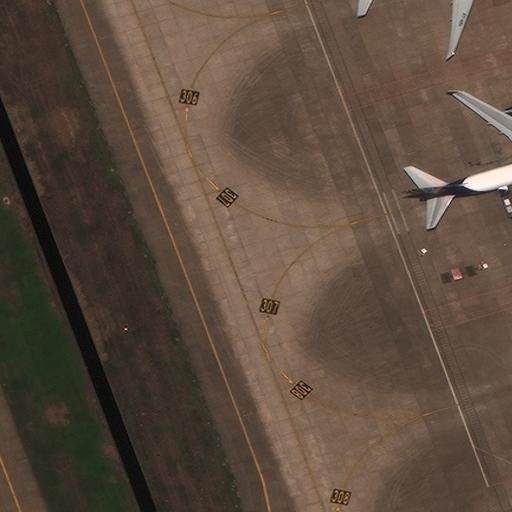Large Civil Transport: (401, 89, 512, 257), (370, 0, 499, 54)
